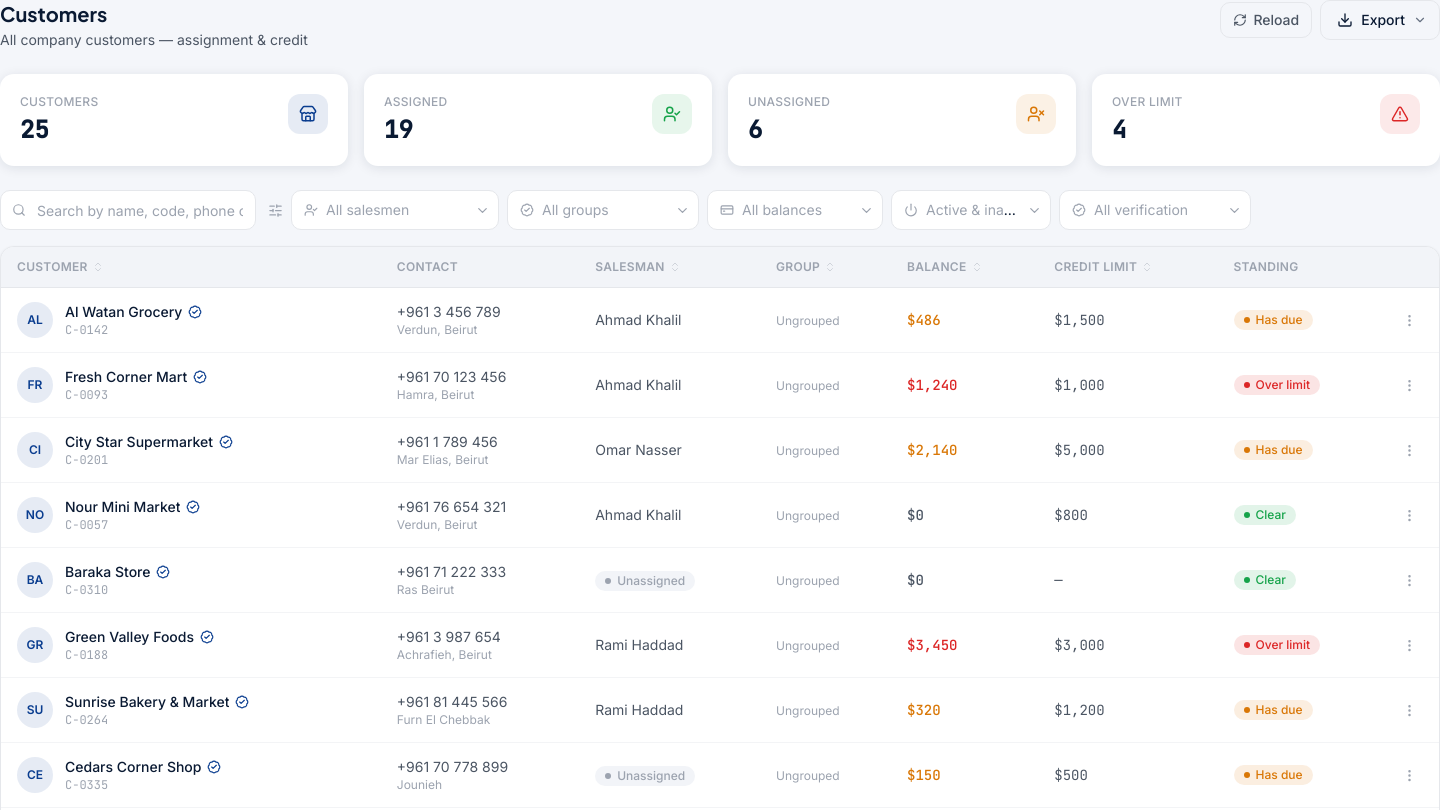
Test: CustomersPage › shows an empty message when nothing matches
Expected: the text "Al Watan Grocery" is shown, [65,302,182,322]
Type "zzzznothing" into the field with placeholder "Search by name, code, phone or address…" at (128, 210), box [0,190,256,230]
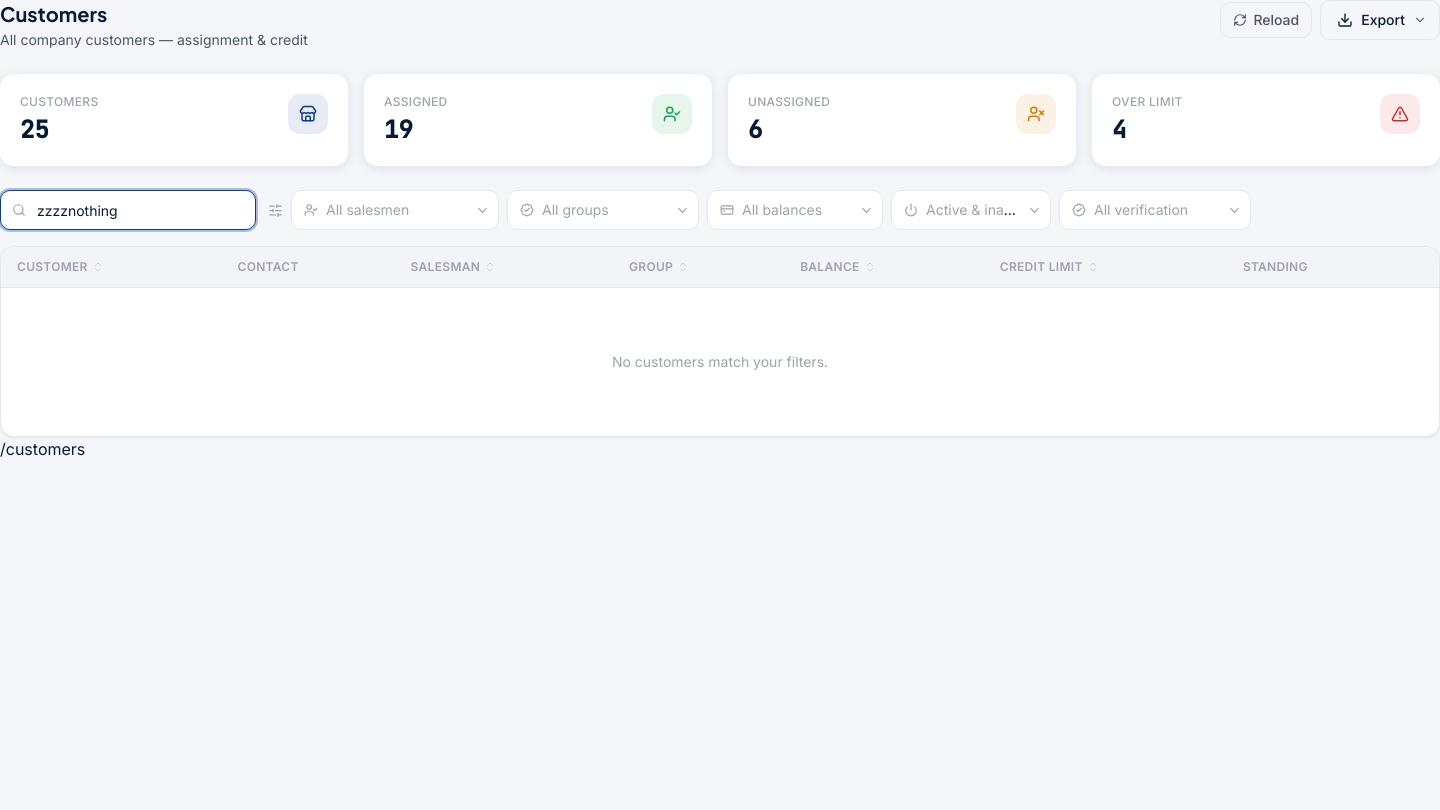
Expected: the text "No customers match your filters." is shown, [612,352,828,372]
